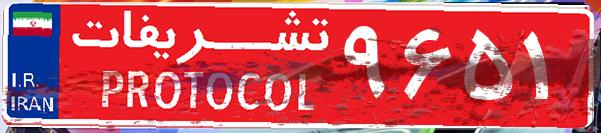1: (520, 20, 580, 115)
5: (460, 20, 520, 115)
6: (400, 20, 460, 115)
9: (340, 20, 400, 115)
تشریفات: (60, 8, 340, 125)
